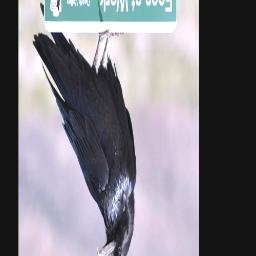Crow: (32, 0, 137, 256)
